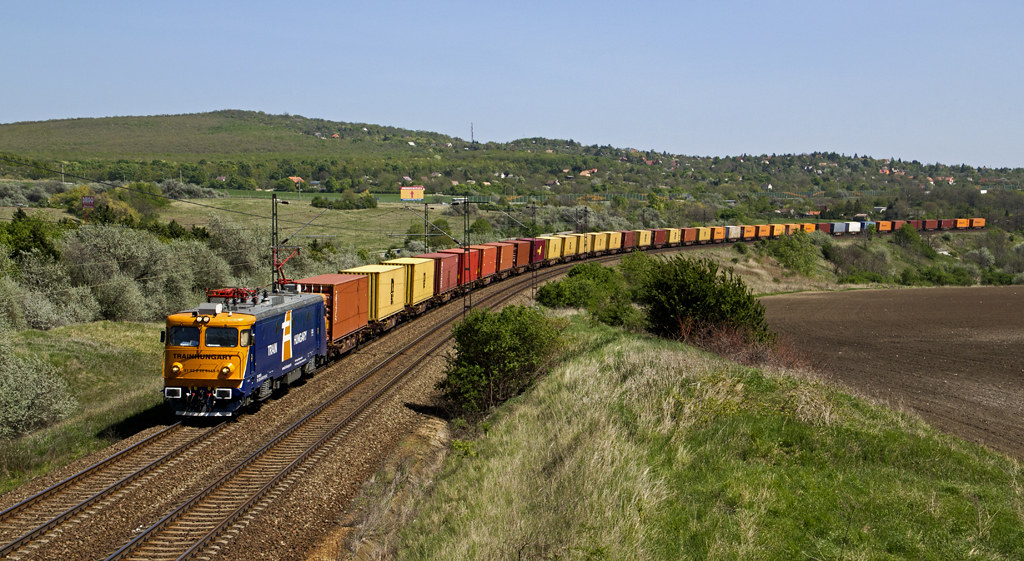train: (159, 277, 331, 411)
